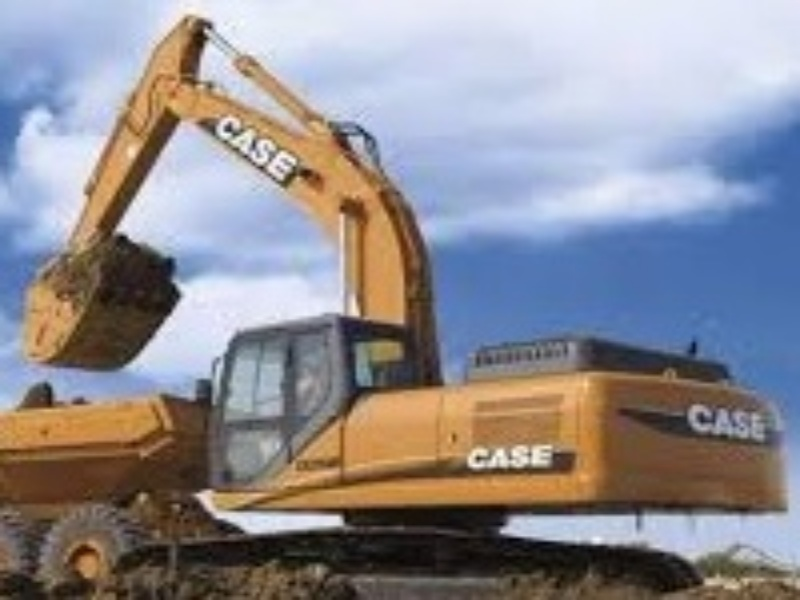wajueji: (24, 251, 798, 600)
